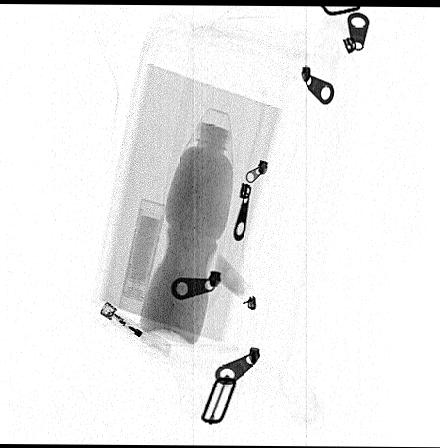Lighter: (211, 253, 258, 312)
